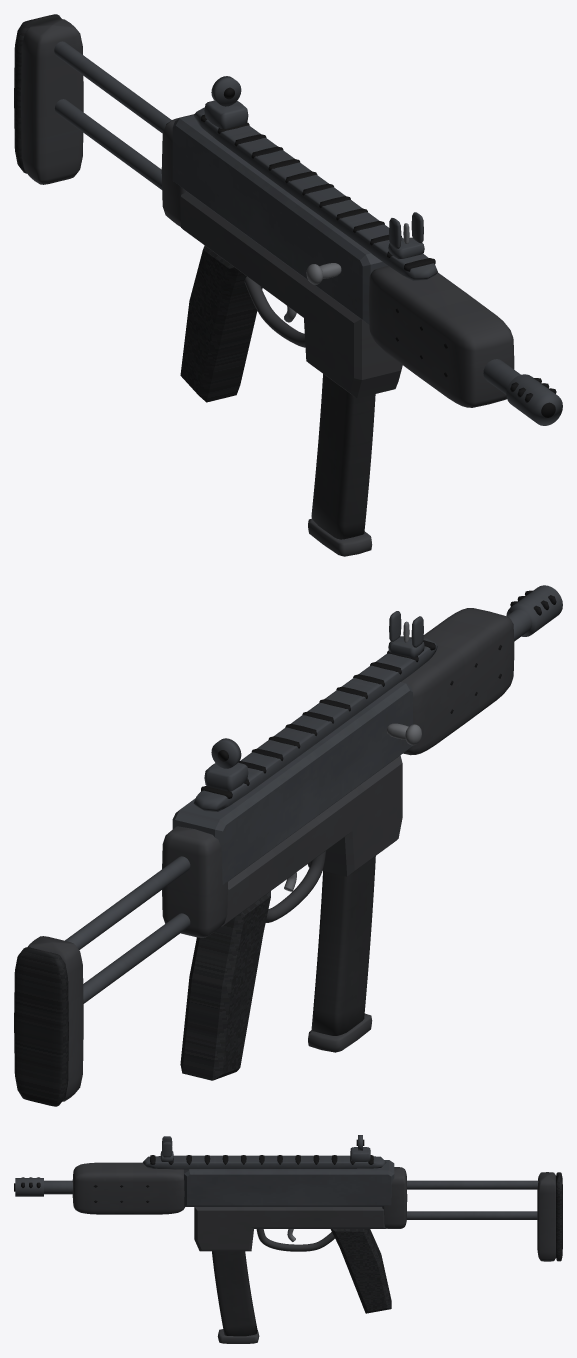
The model's file is SMG.glb.
3 views of the same model, one above another, from view 1: azimuth 30°, elevation 25°; view 2: azimuth 150°, elevation 25°; view 3: azimuth 270°, elevation 25° (orthographic). The views are drawn at different scales.
Parts seen in each view (by area): view 1: Body, Magazine; view 2: Body, Magazine; view 3: Body, Magazine.
Part boxes in pixels (left/top/right/bottom): Body: left=14, top=14, right=562, bottom=425; Magazine: left=308, top=374, right=375, bottom=556; Body: left=14, top=585, right=562, bottom=1106; Magazine: left=308, top=856, right=375, bottom=1052; Body: left=14, top=1135, right=562, bottom=1313; Magazine: left=212, top=1251, right=259, bottom=1343.
Size of the model in its own units: 0.202 by 0.87 by 2.11.
1 material, 1 textured.
